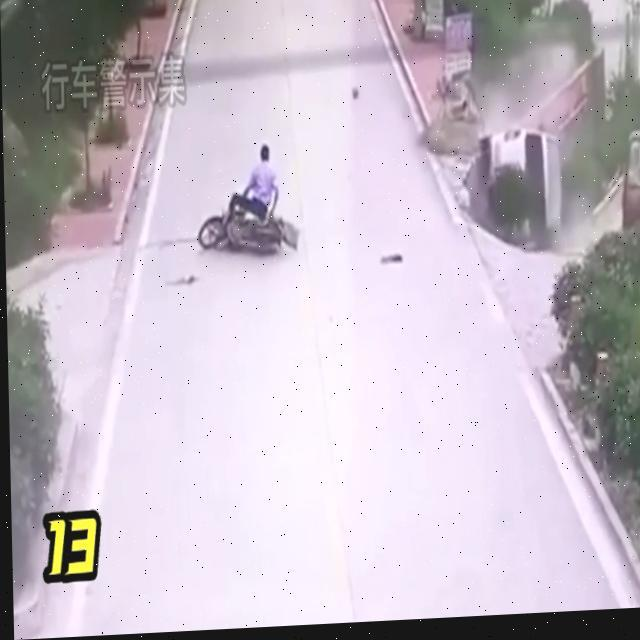multiple_accident: (182, 96, 571, 295)
